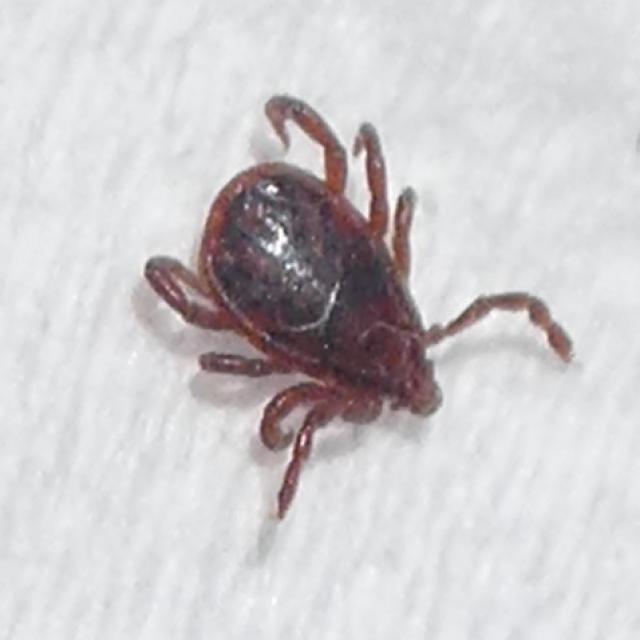Rhipicephalus Sanguineus-M: (142, 96, 576, 521)
